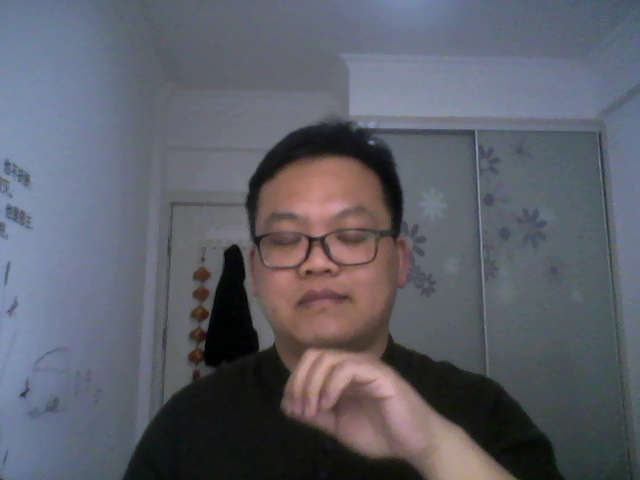Yes: (272, 344, 452, 465)
